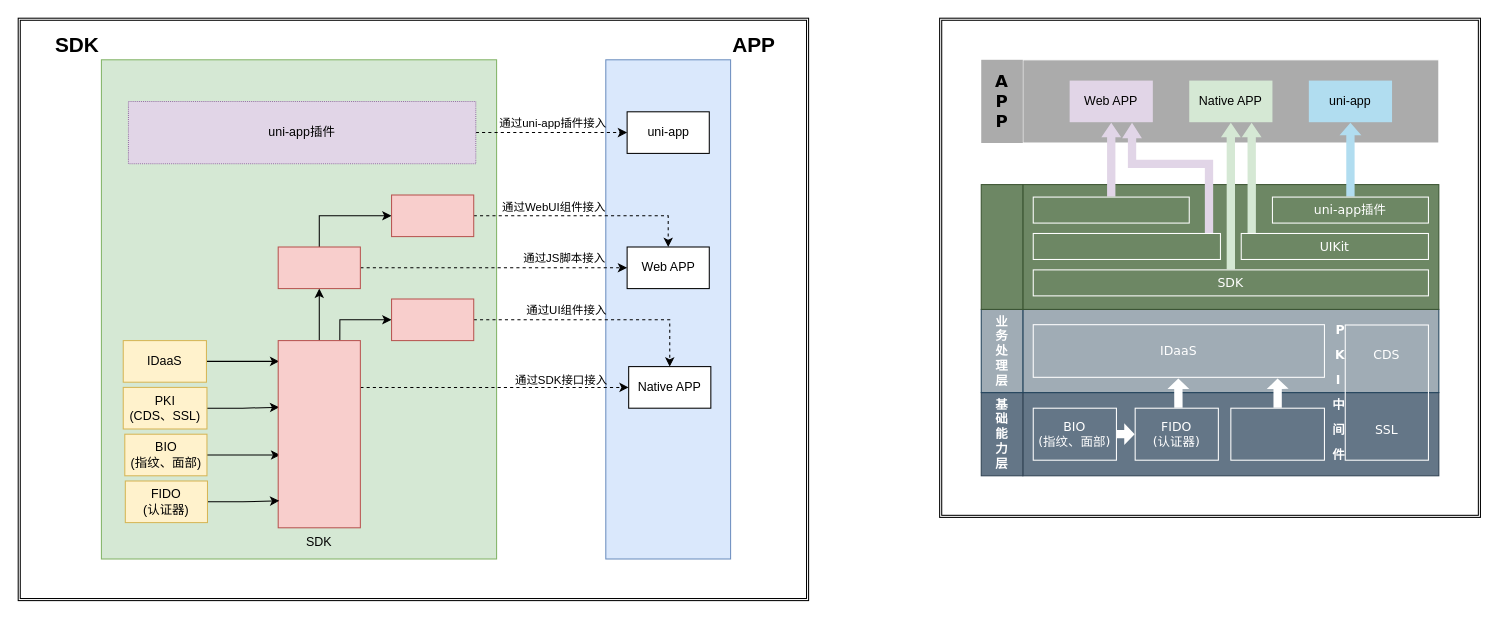
This 1499x619 diagram has some shape labels left out. The centre of each missing label's shape, as x and y in pixels:
"JS-SDK" belongs at point 1126,245.
"JSSDK" belongs at point 318,267.
"Native ( 扫码 、蓝牙、 NFC、Location )" belongs at point 1277,433.
"UIKit 支持自定义" belongs at point 432,319.
"WebUI" belongs at point 1110,209.
"WebUI 支持自定义" belongs at point 432,215.
"对 外 接 口 层" belongs at point 1001,246.
